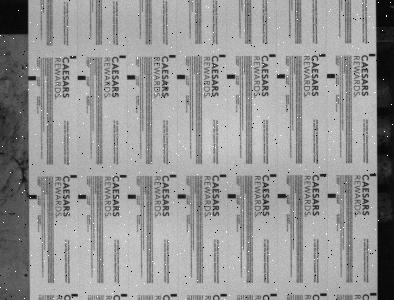qblock: (77, 75, 86, 80), (227, 74, 236, 79), (127, 75, 135, 80), (327, 73, 335, 78), (78, 194, 86, 199), (128, 194, 136, 199), (178, 194, 186, 199), (328, 193, 336, 198), (277, 74, 286, 78), (177, 75, 186, 79), (278, 194, 287, 198), (28, 76, 36, 80), (228, 194, 236, 198), (28, 195, 36, 199)
smallqblock: (169, 54, 176, 58), (70, 174, 77, 178), (270, 173, 277, 177), (369, 53, 376, 57), (220, 54, 226, 58), (120, 174, 126, 178), (270, 293, 278, 296), (170, 174, 177, 177), (220, 174, 227, 177), (71, 293, 78, 296), (171, 293, 178, 296), (221, 293, 228, 296), (121, 293, 128, 296), (119, 55, 126, 58), (319, 54, 326, 57), (70, 56, 76, 59), (270, 54, 276, 57), (320, 173, 326, 176), (371, 173, 377, 176), (321, 293, 327, 296), (371, 292, 377, 295)
